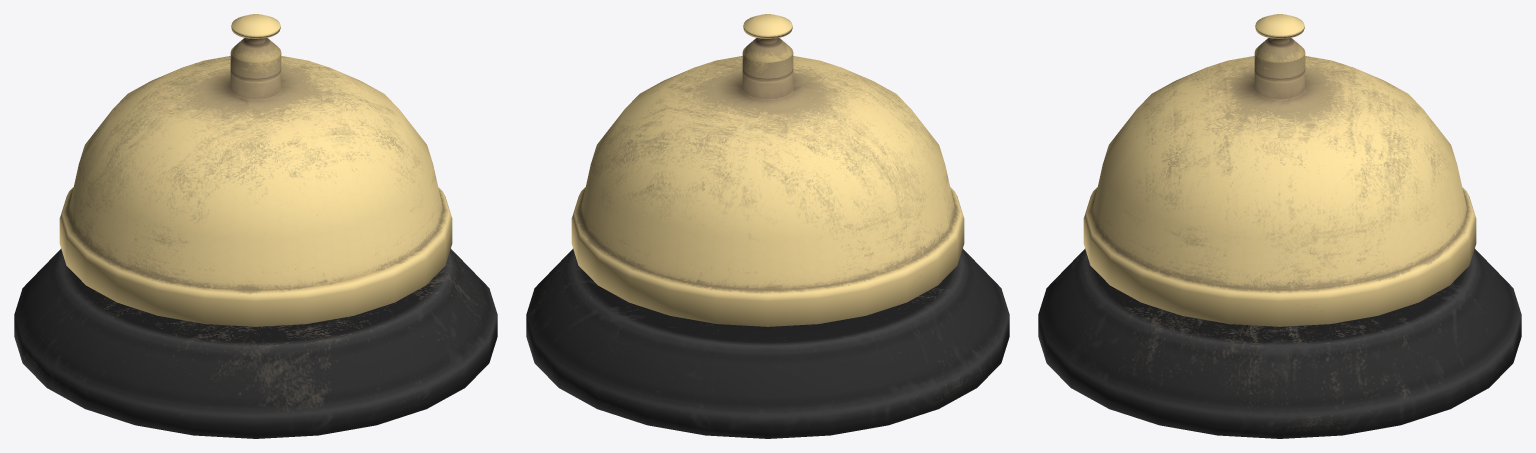
The model's file is SKM_Bell.fbx.
3 renders of one model, left to right at view 1: azimuth 30°, elevation 25°; view 2: azimuth 150°, elevation 25°; view 3: azimuth 270°, elevation 25°, orthographic.
Parts seen in each view (by area): view 1: SKM_Bell; view 2: SKM_Bell; view 3: SKM_Bell.
Part boxes in pixels (x1,y1,x2,y2): SKM_Bell: (14, 14, 497, 438); SKM_Bell: (526, 14, 1009, 438); SKM_Bell: (1038, 14, 1521, 438).
Bounding box in the file's own units: 10.5 × 7.6 × 10.5.
Materials: 1 (1 with a texture image).
